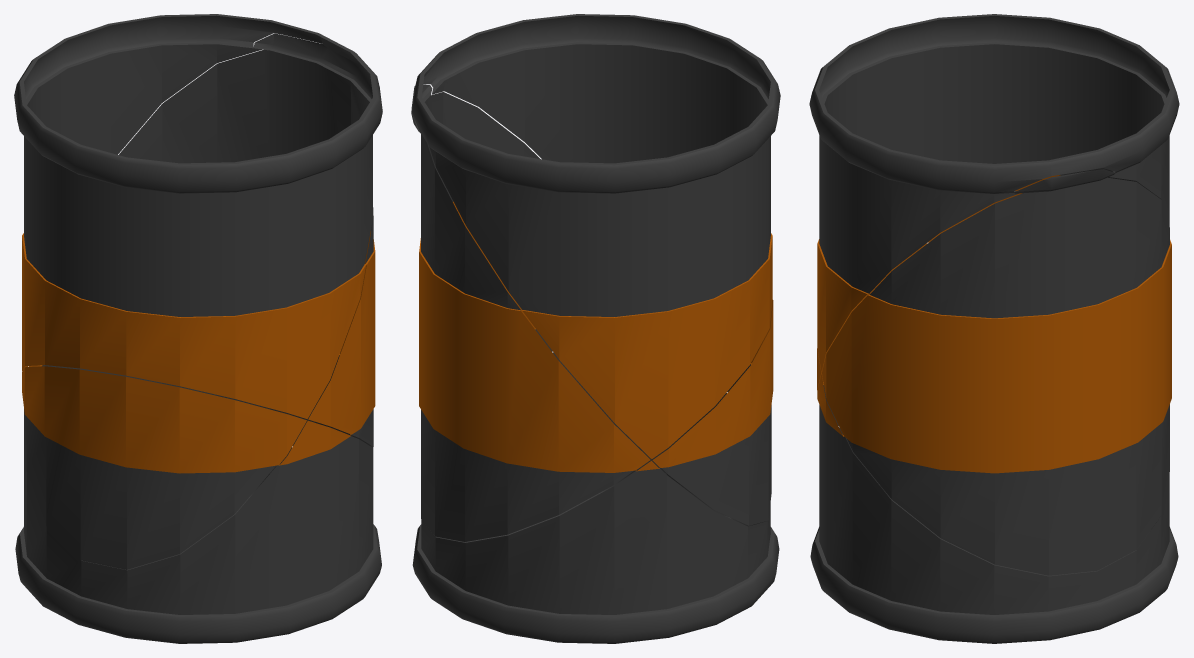
The model's file is Barrel4_Broken.fbx.
The picture shows the model from 3 angles, left to right: view 1: azimuth 30°, elevation 25°; view 2: azimuth 150°, elevation 25°; view 3: azimuth 270°, elevation 25°; orthographic projection.
Visible parts, largest first — view 1: polySurface2, polySurface1, polySurface4, polySurface3; view 2: polySurface2, polySurface3, polySurface1, polySurface4; view 3: polySurface3, polySurface2, polySurface1.
Boxes of the visible parts, x1,y1,x2,y2 form: polySurface2: (14, 14, 382, 419); polySurface1: (15, 412, 381, 643); polySurface4: (22, 366, 306, 569); polySurface3: (28, 33, 375, 447); polySurface2: (412, 14, 780, 458); polySurface3: (411, 84, 650, 541); polySurface1: (412, 352, 779, 643); polySurface4: (652, 300, 773, 525); polySurface3: (822, 169, 1171, 575); polySurface2: (809, 14, 1179, 371); polySurface1: (810, 374, 1178, 643).
Size of the model in its own units: 169 by 241 by 169.
2 materials, 2 textured.
